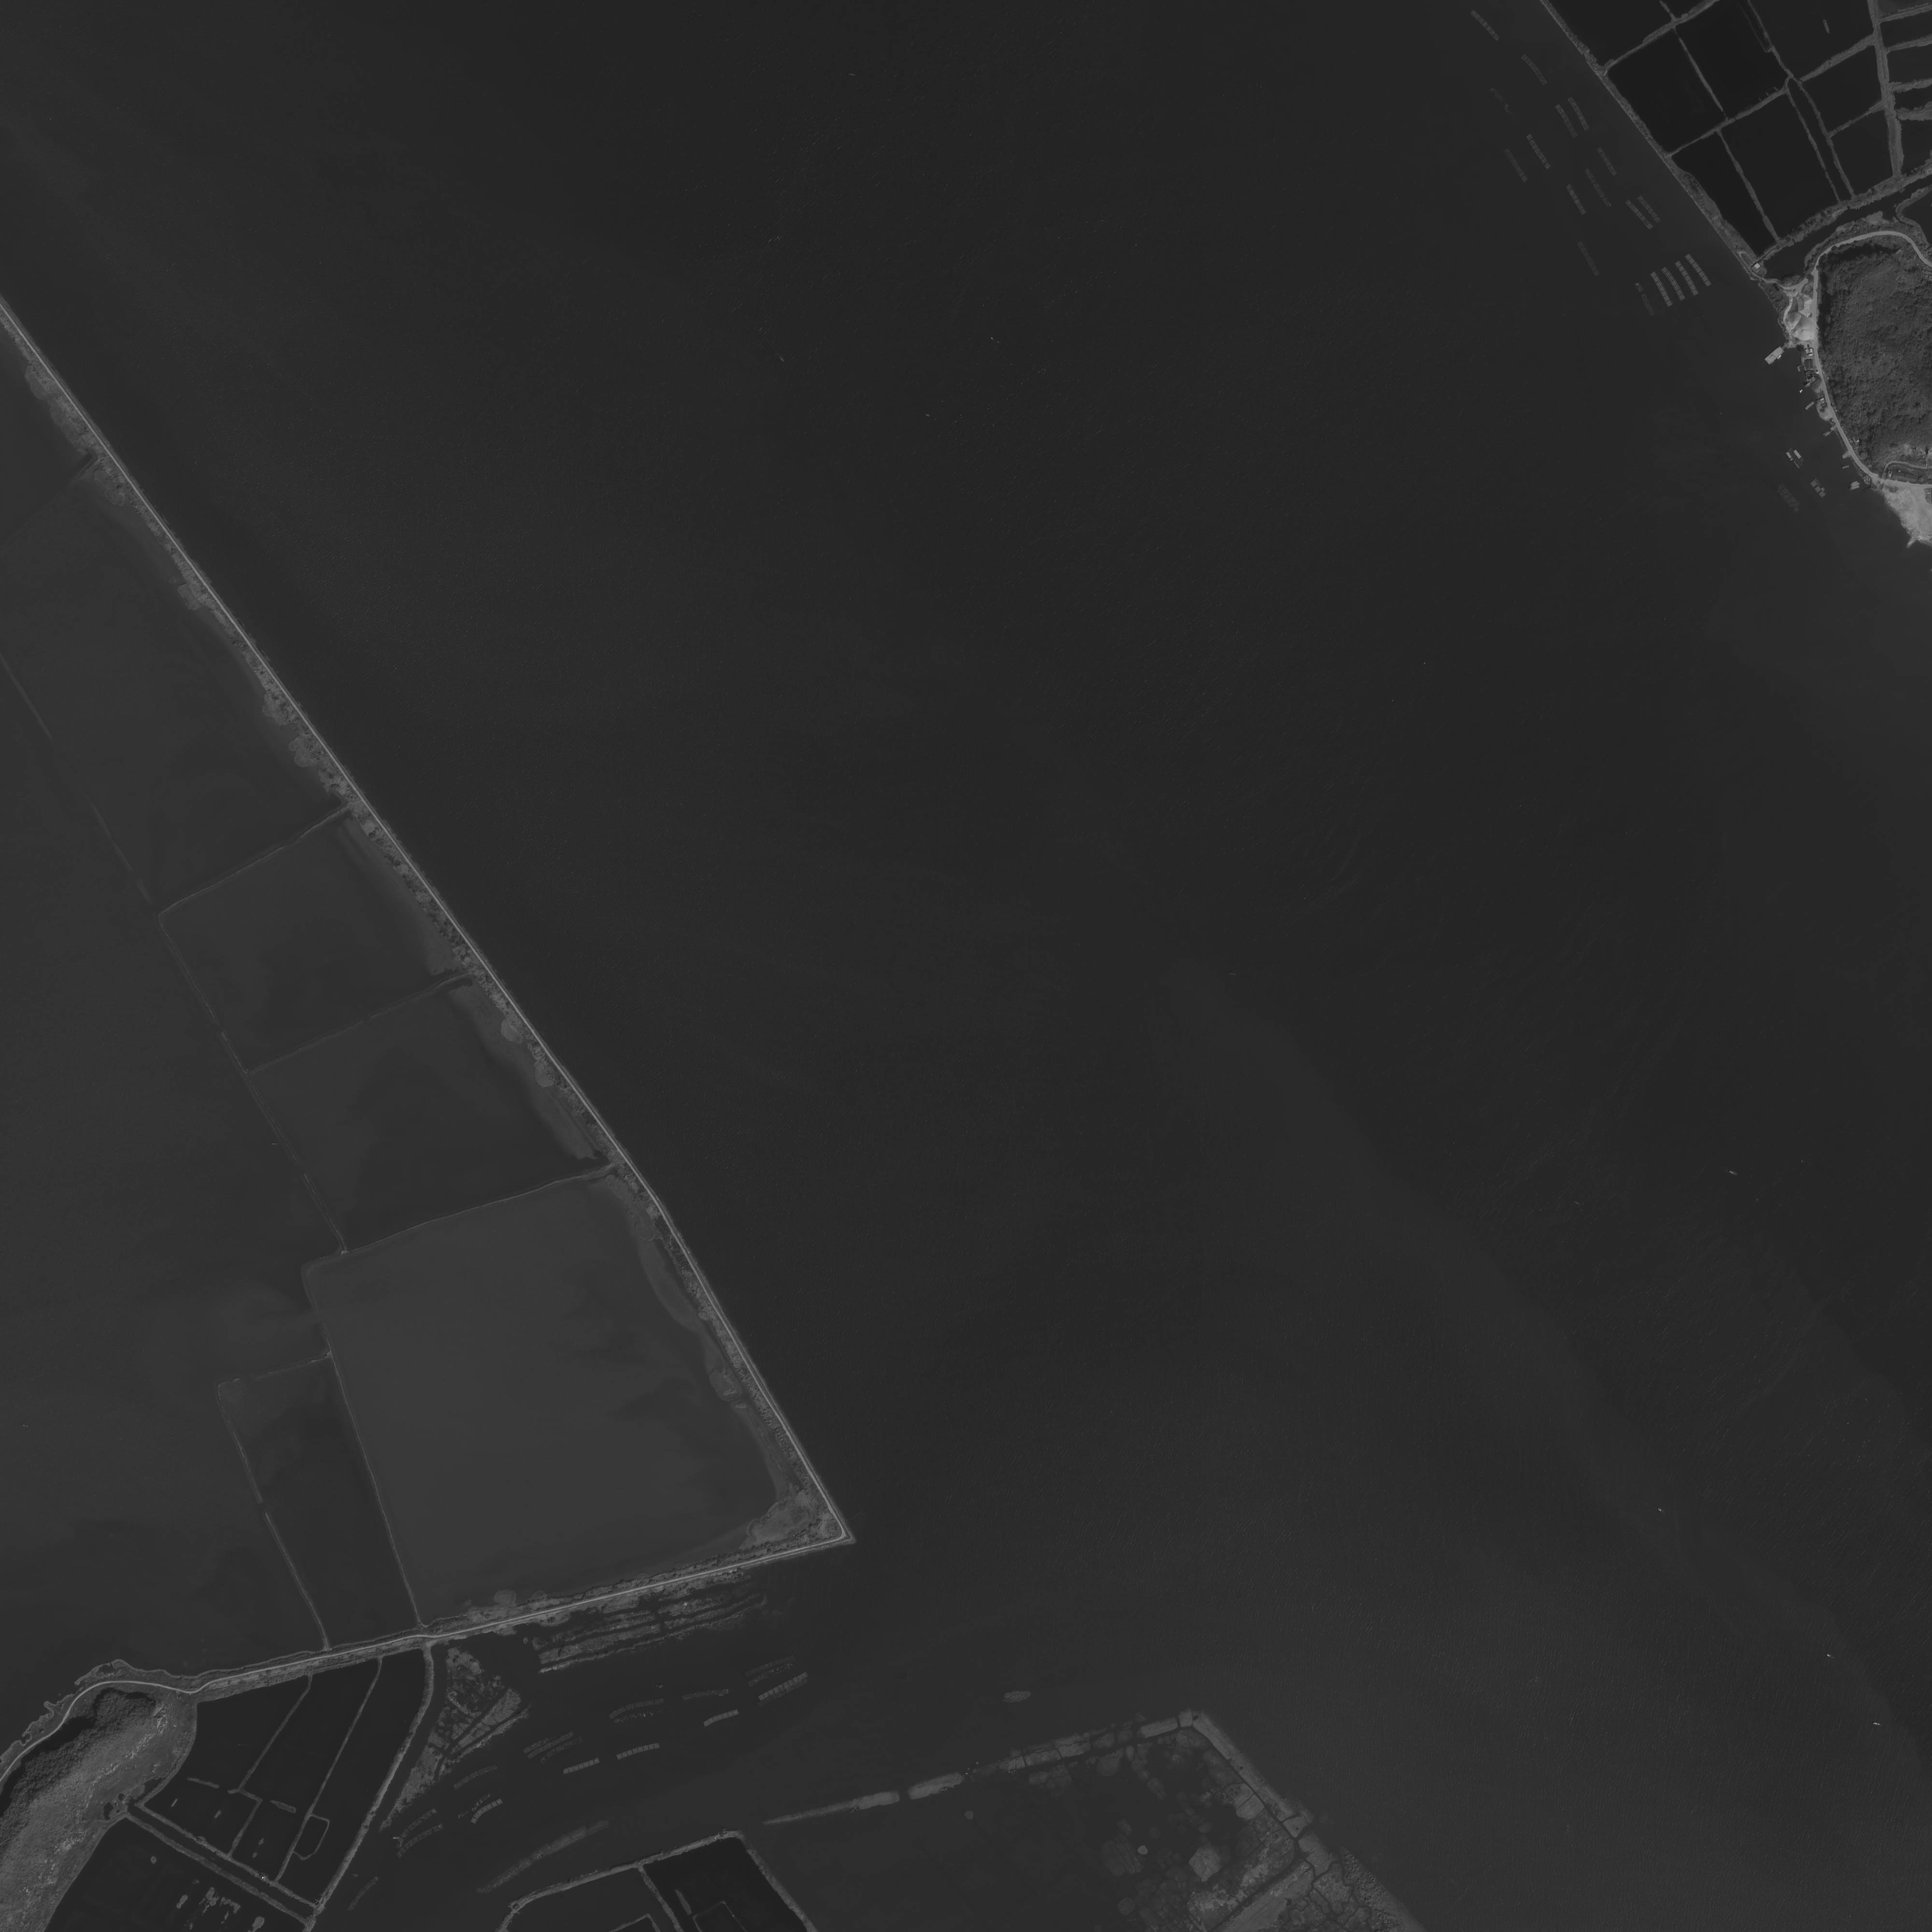harbor: (1764, 343, 1787, 366)
ship: (1821, 18, 1831, 34)
